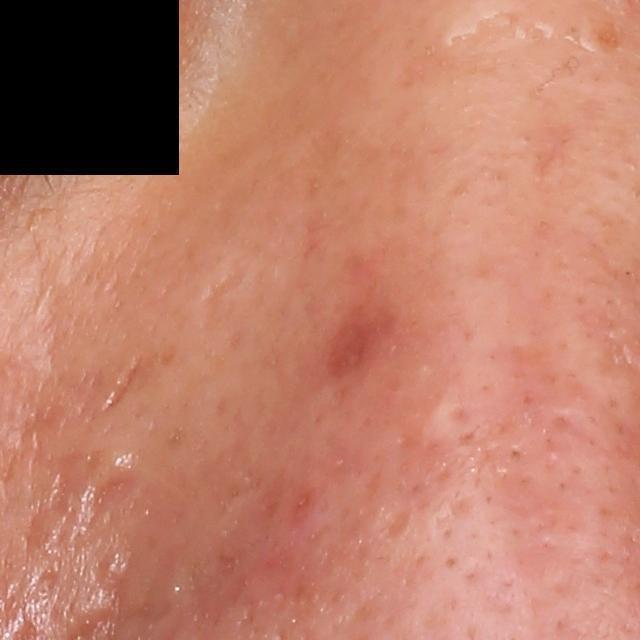atrophic_scar: (195, 253, 257, 327), (322, 311, 377, 379), (84, 468, 138, 521), (47, 449, 82, 520), (102, 357, 141, 411), (377, 506, 409, 542)
